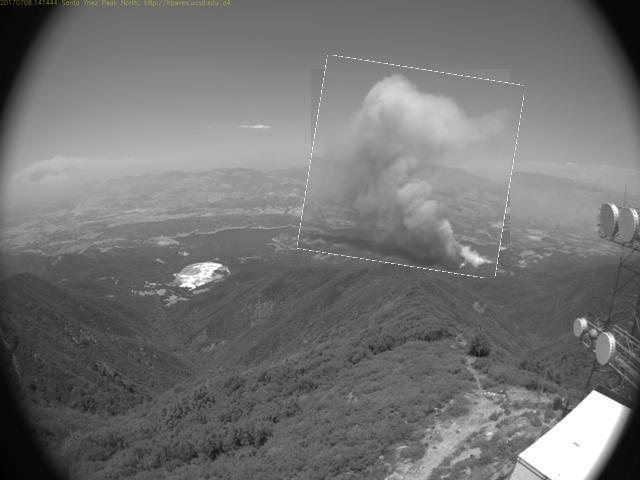smoke: (305, 63, 519, 273)
